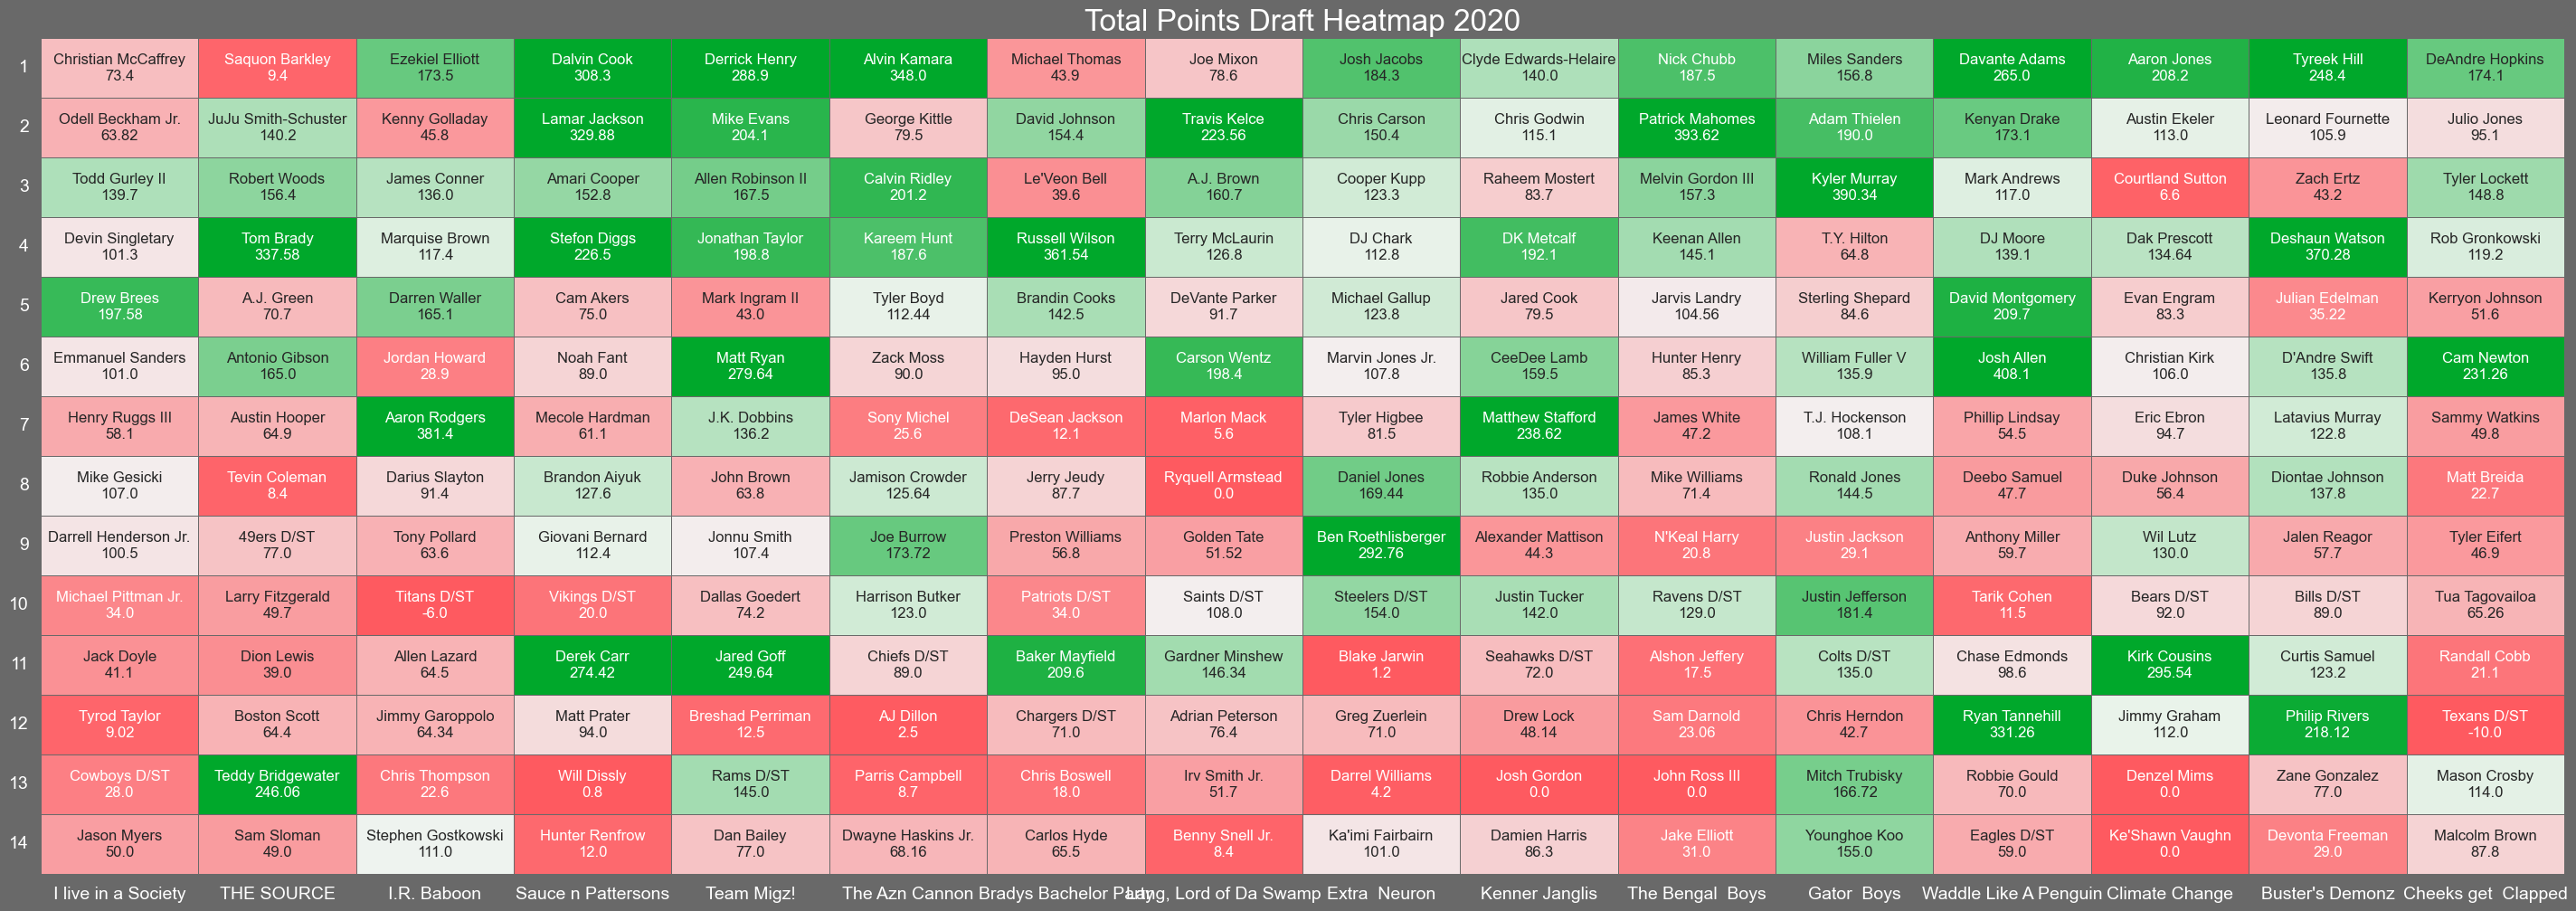

The dashboard page shown, as its layout file describes it:
{"tool":"powerbi","page":{"name":"Page 3","canvas":[1280,720],"ordinal":2},"visuals":[{"type":"pivotTable","fields":{"Rows":["Query1.round","Query1.playername"],"Columns":["Query1.pick"],"Values":["Sum(Query1.total)"]},"box":[0,0,1280,720],"z":1}]}

Visuals, with their boxes on the page's 1280x720 design canvas (x1, y1, x2, y2). These are canvas units, not pixel positions in the 2576x911 screenshot, which may show the page scaled, cropped or inside an application window:
pivotTable - Query1.round x Query1.playername: box(0, 0, 1280, 720)
